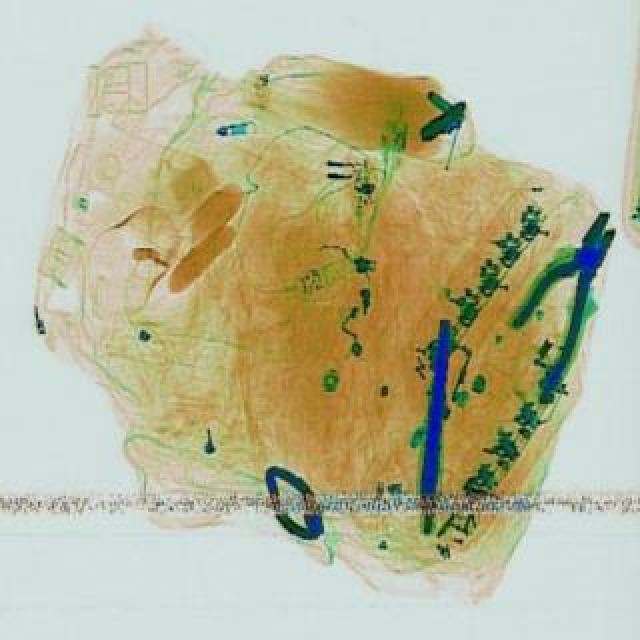wrench: (494, 214, 640, 396)
